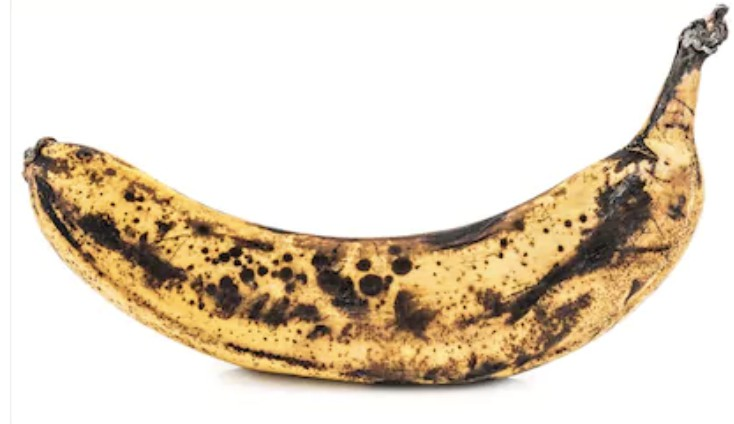rotten_banana: (23, 4, 727, 387)
